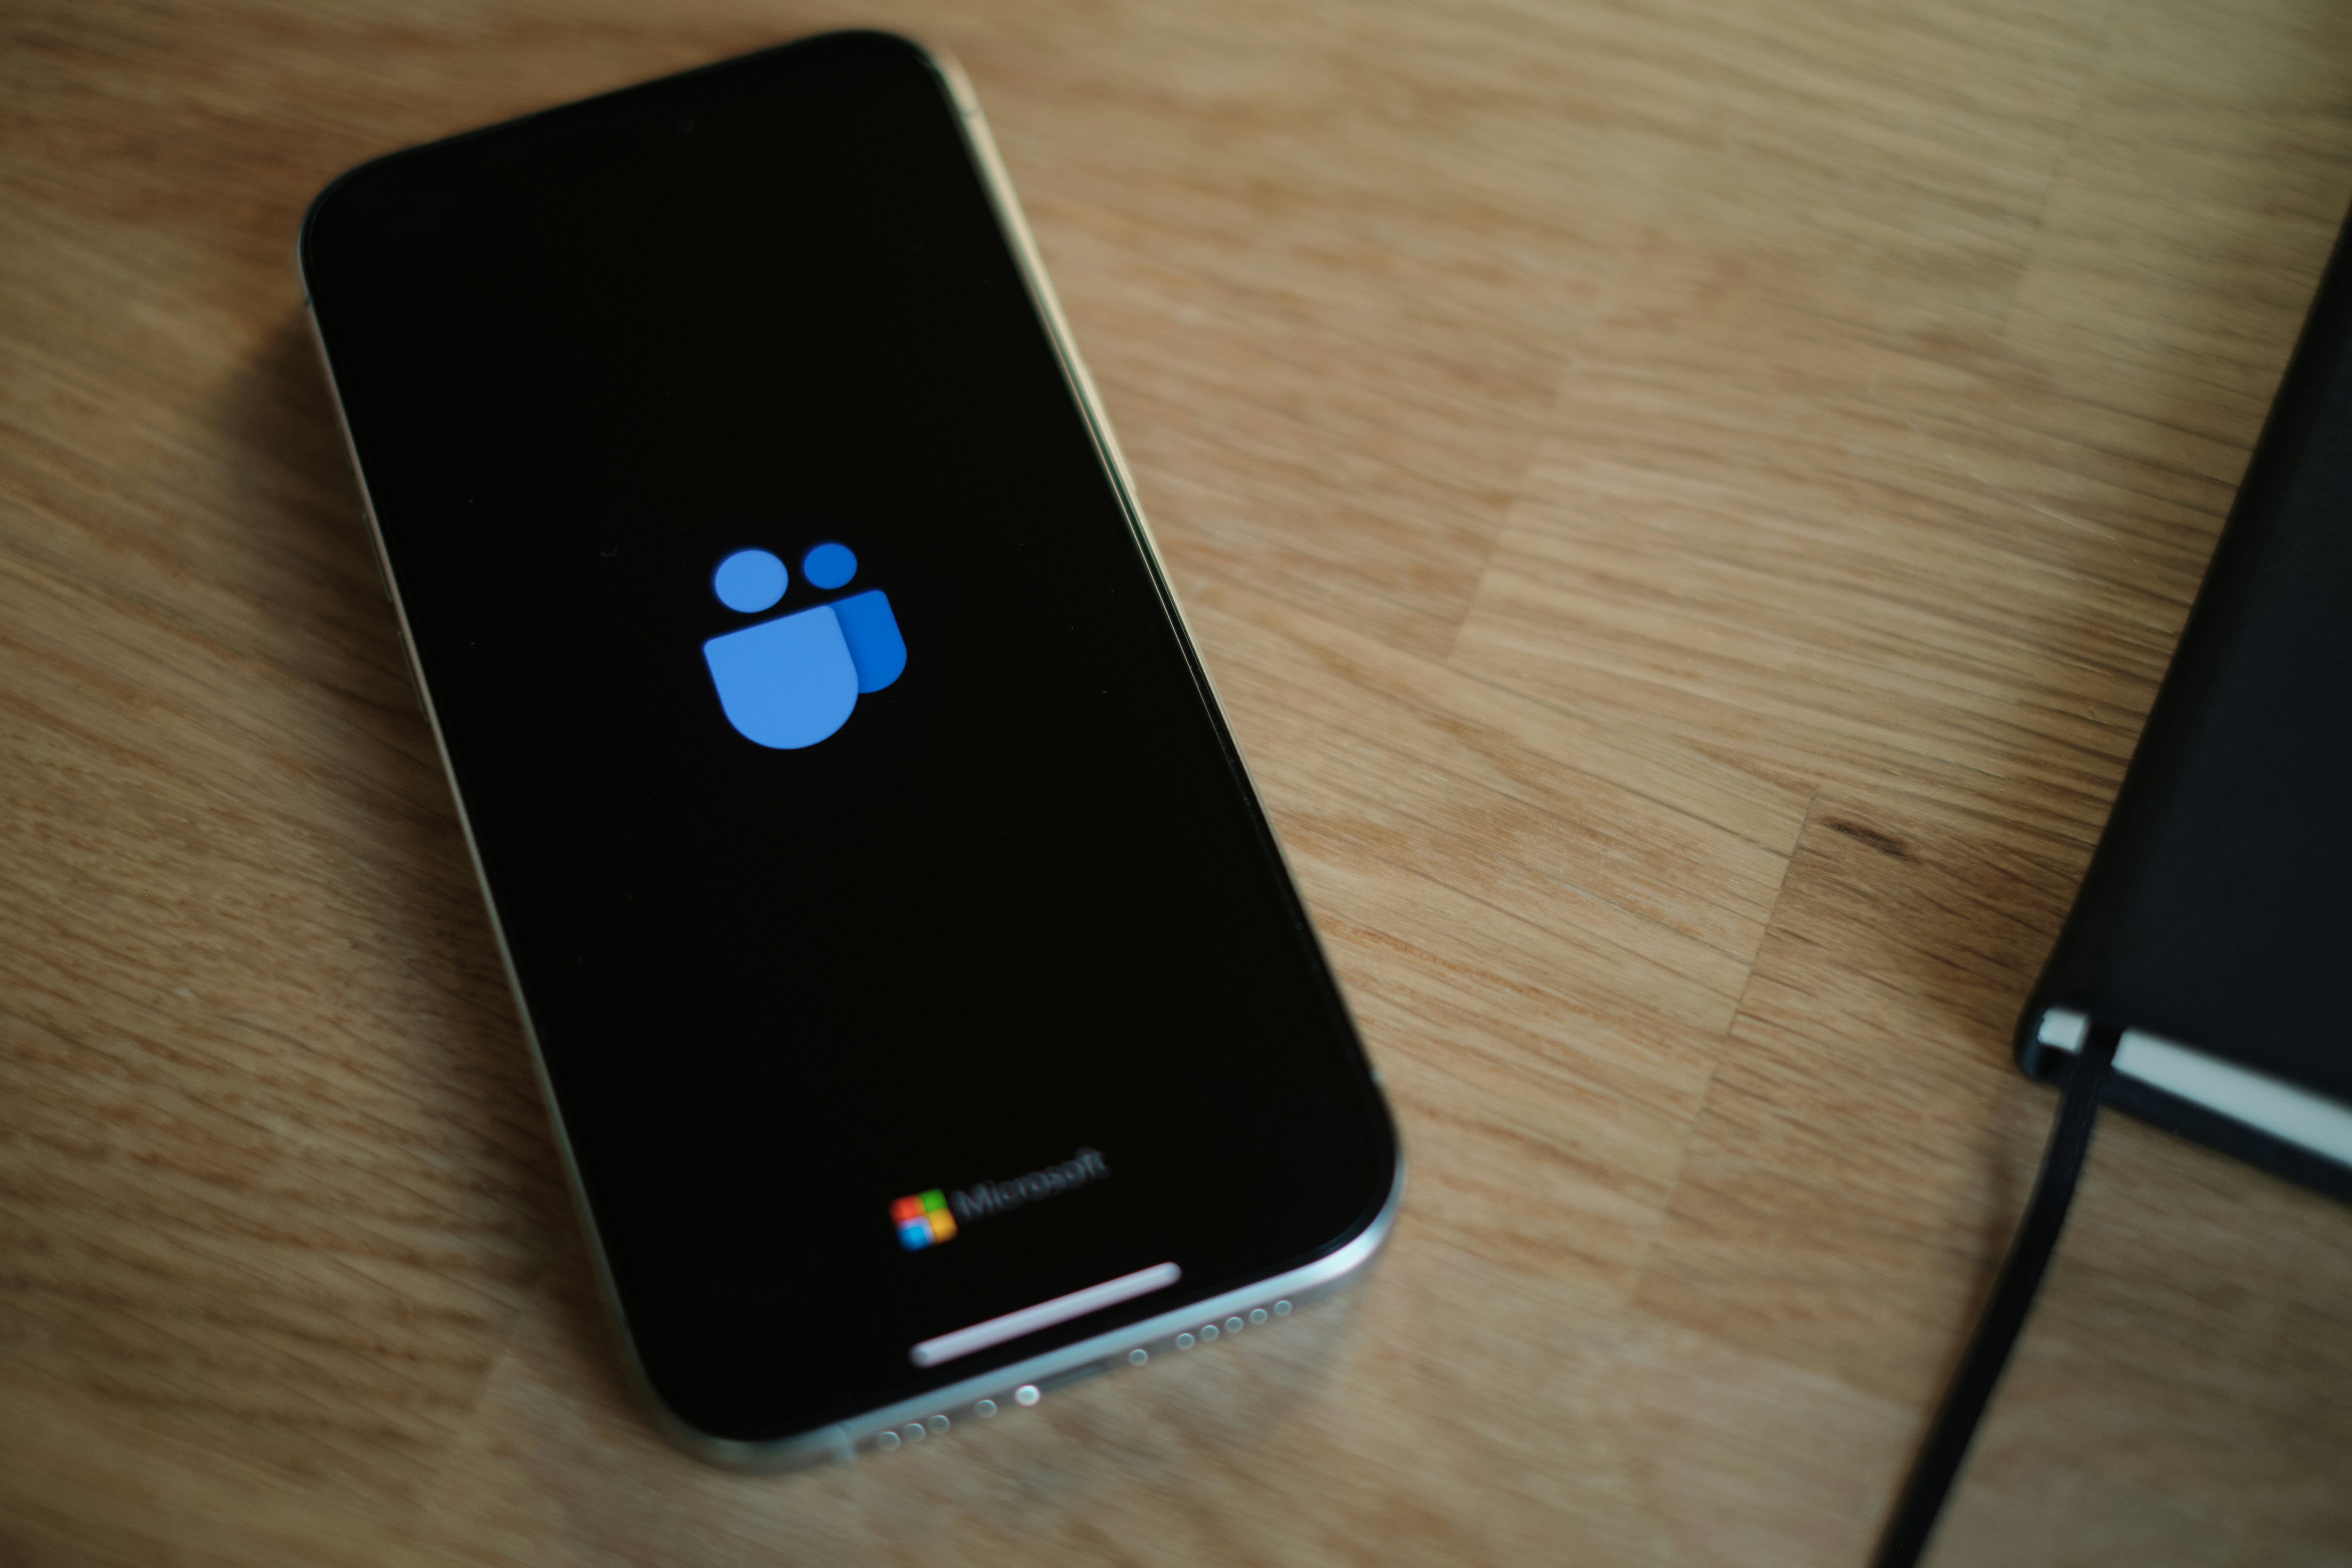p6: (271, 14, 1459, 1484)
